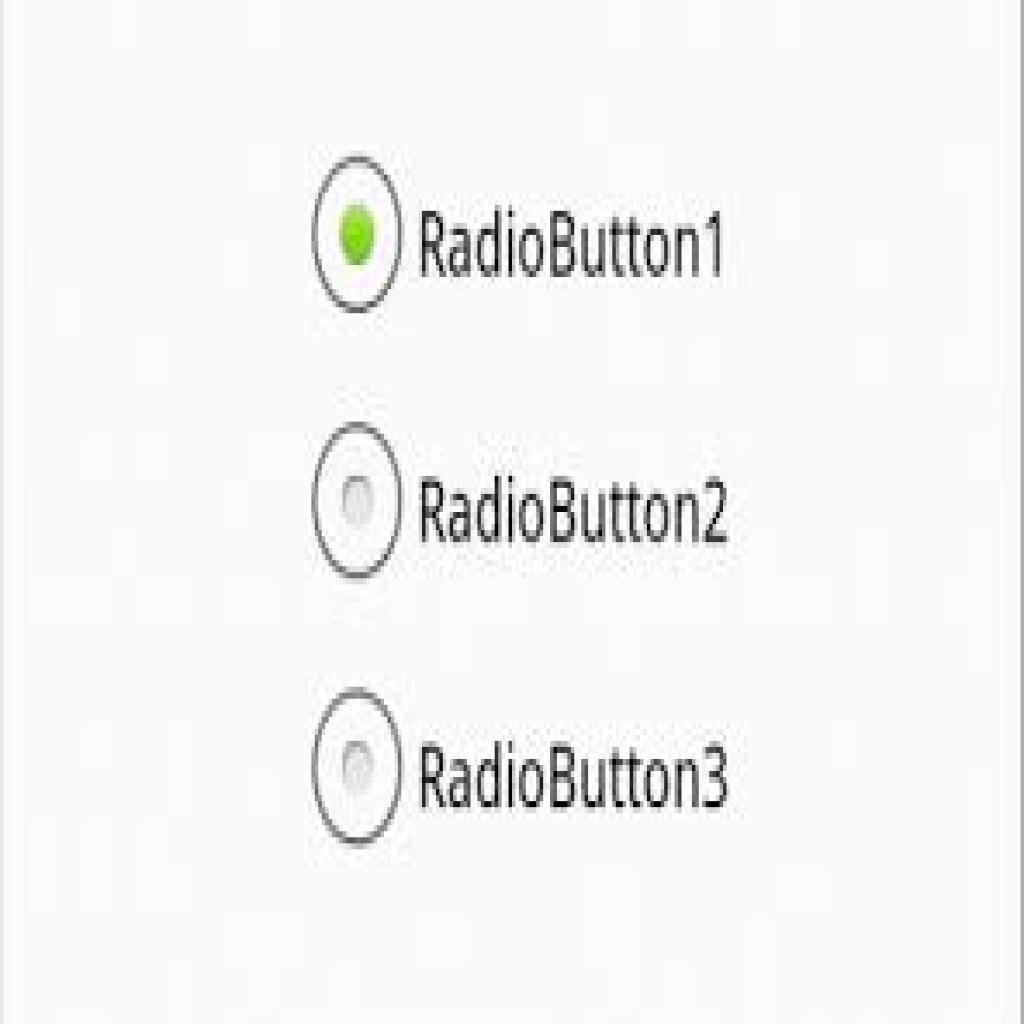label: (419, 729, 737, 820), (415, 199, 729, 290), (417, 464, 739, 551)
radio: (304, 684, 410, 850), (311, 421, 409, 593), (313, 157, 404, 322)
